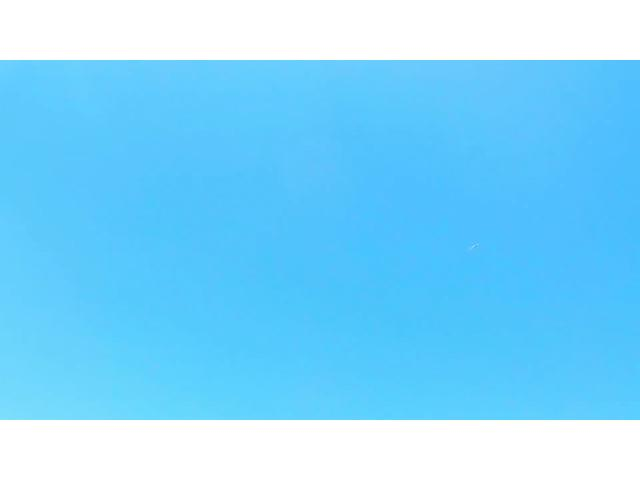Anti-Drone: (465, 236, 481, 260)
